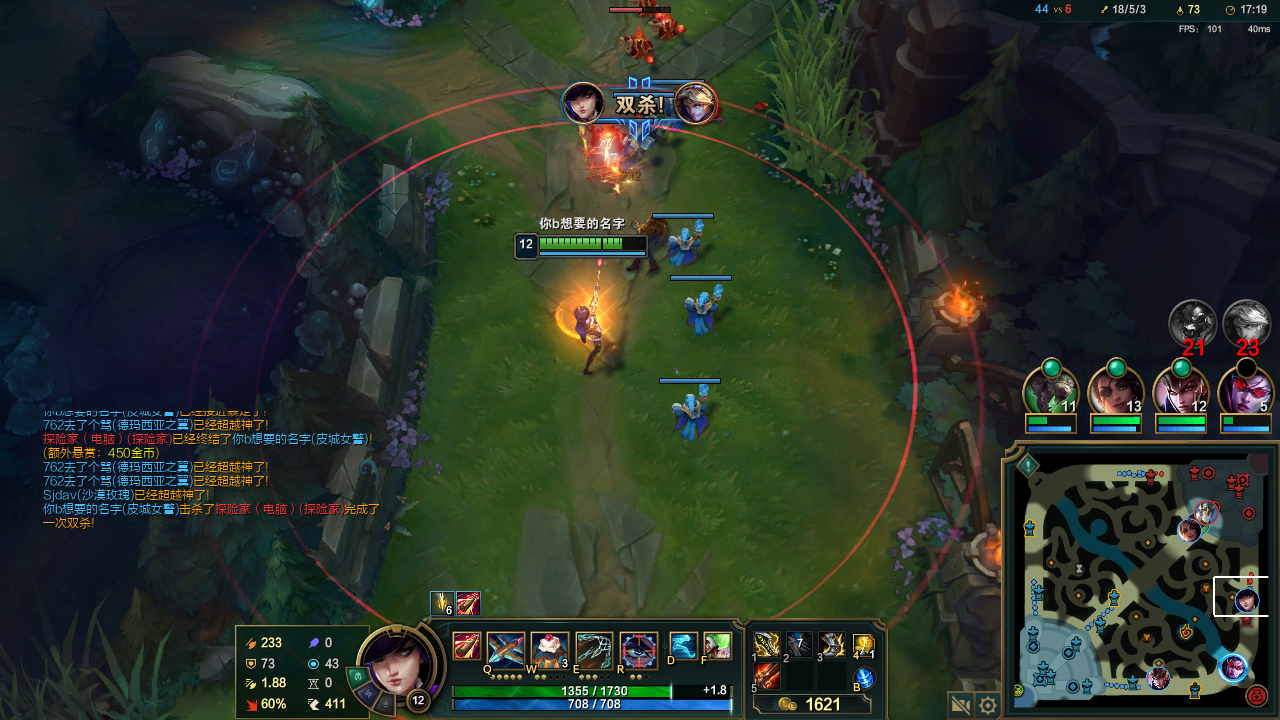DFXB: (619, 30, 660, 63)
WFXB: (669, 390, 727, 450), (679, 283, 729, 329), (666, 225, 709, 261)
